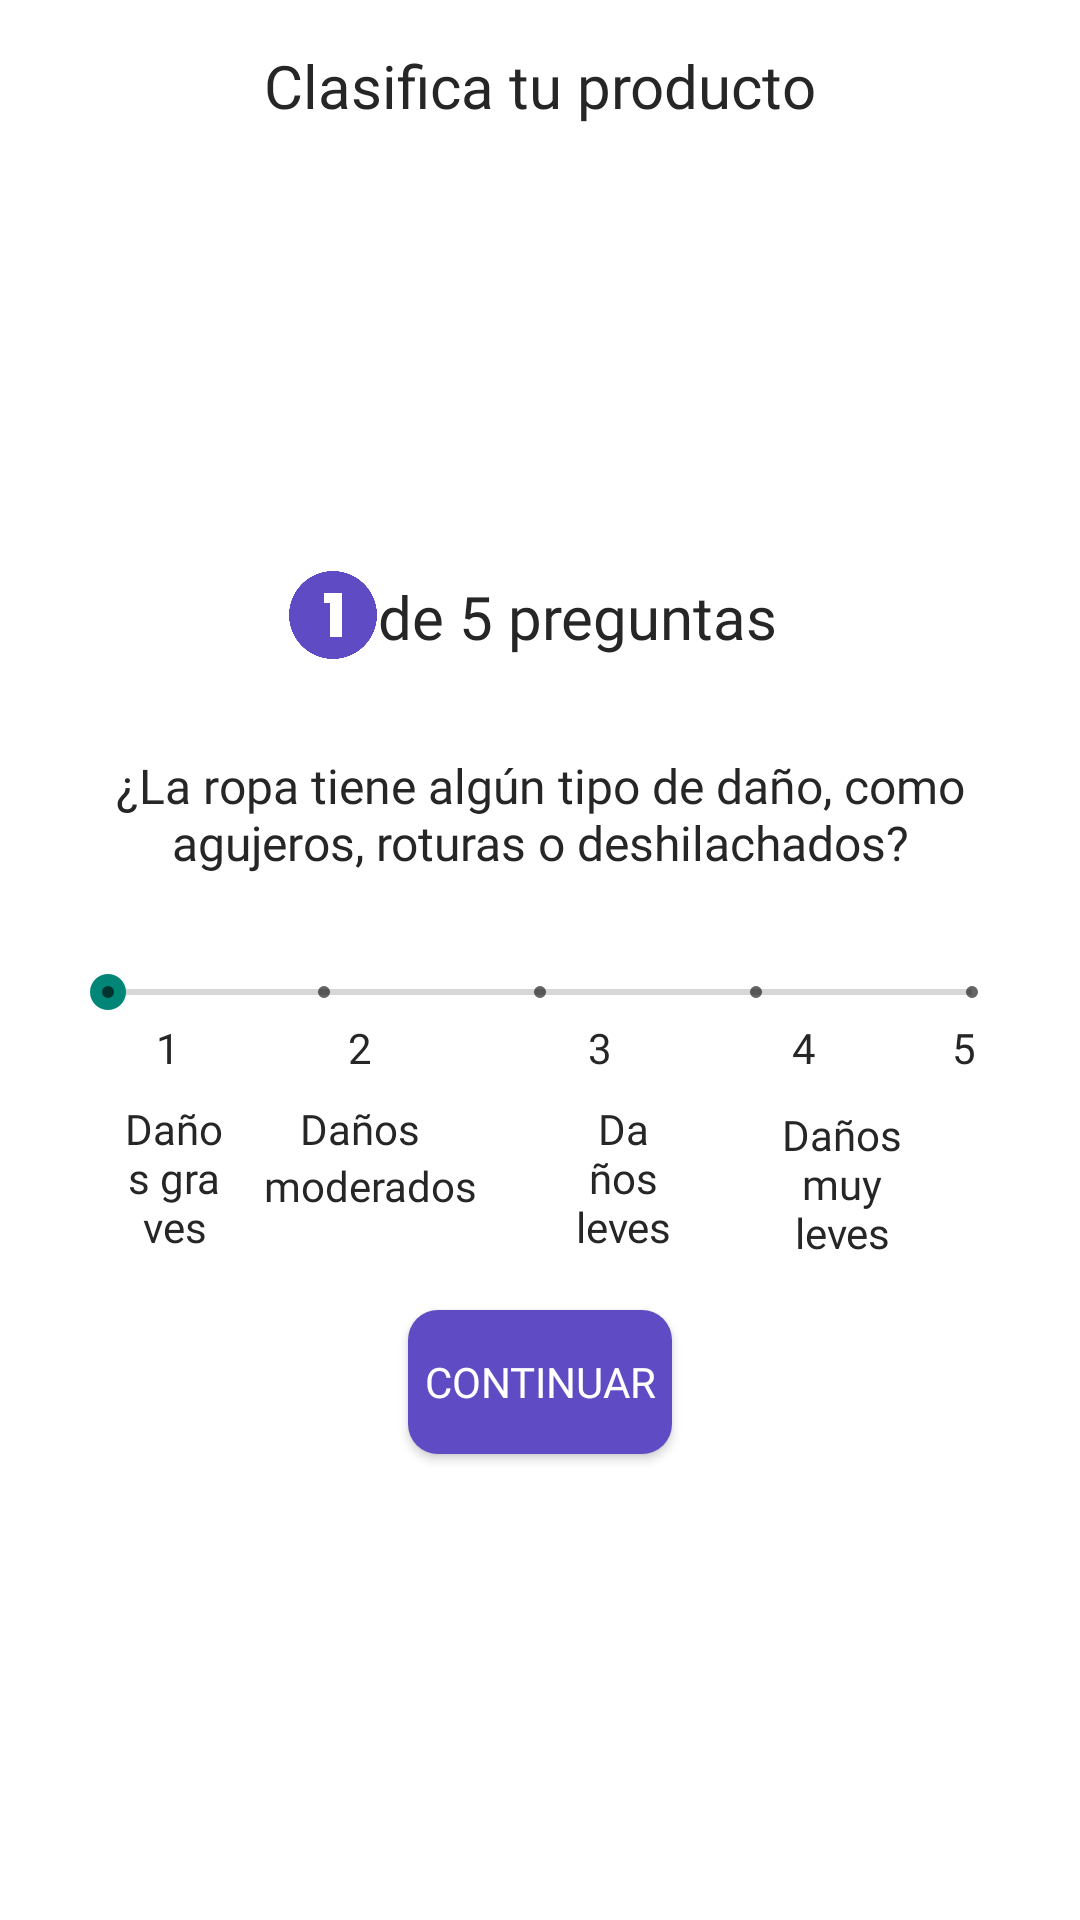

Named icons in this screenshot (1080x1920) and their bounding boxes, (x1, y1, x2, y2):
numero: (289, 571, 377, 659)
